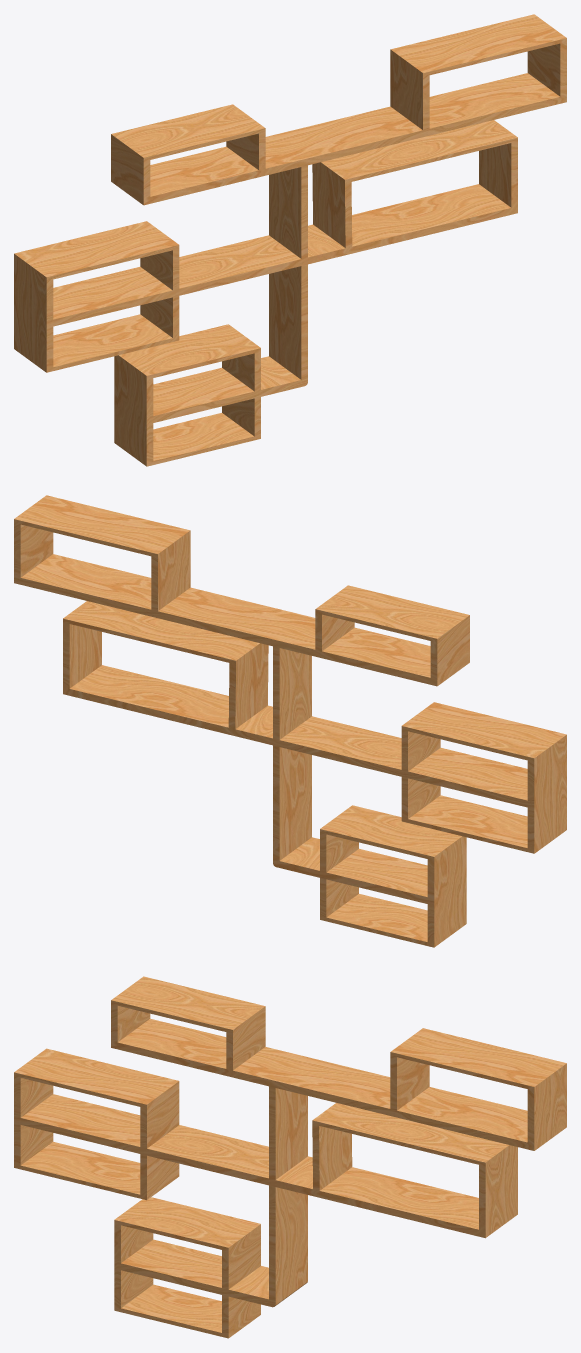
Rendered from wallshelf.glb.
3 renders of one model, top to bottom at view 1: azimuth 30°, elevation 25°; view 2: azimuth 150°, elevation 25°; view 3: azimuth 330°, elevation 25°, orthographic.
Parts seen in each view (by area): view 1: Curve.007_0; view 2: Curve.007_0; view 3: Curve.007_0.
Boxes of the visible parts, box(x1,y1,x2,y2) form: Curve.007_0: box(14, 14, 566, 466); Curve.007_0: box(14, 495, 566, 947); Curve.007_0: box(14, 976, 566, 1338).
Size of the model in its own units: 2.4 by 1.43 by 0.2596.
1 material, 1 textured.
